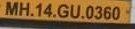character: (4, 1, 17, 16), (56, 3, 68, 18), (69, 2, 80, 18), (18, 1, 29, 16), (42, 3, 52, 17), (84, 4, 93, 18), (93, 5, 102, 19), (103, 5, 111, 20), (111, 5, 119, 20), (35, 2, 42, 17)
